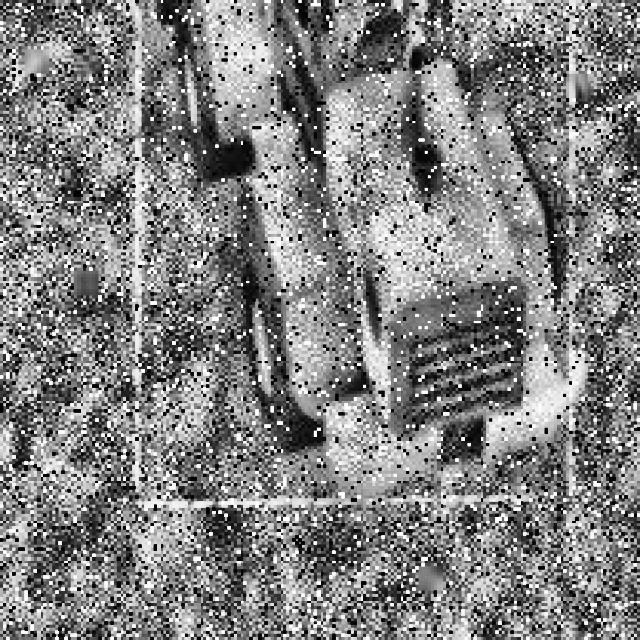buldozerpayloadergrader: (117, 0, 578, 505)
